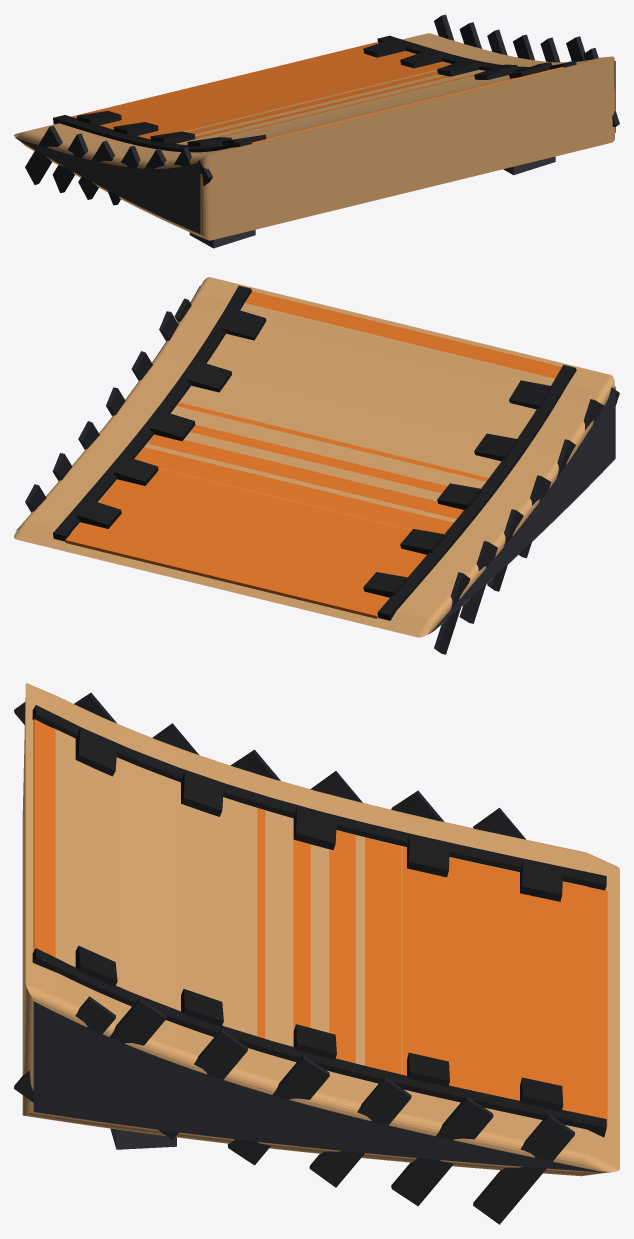
Rendered from corporate-office-jump-ramp-orange-smooth.glb.
3 renders of one model, top to bottom at view 1: azimuth 30°, elevation 25°; view 2: azimuth 150°, elevation 25°; view 3: azimuth 270°, elevation 25°, orthographic. The views are drawn at different scales.
Parts seen in each view (by area): view 1: RampBody, TrackSurface, LeftSidePanel, TopBumpers, LeftSafetyStripes, CorporateOfficeJumpRampOrangeSmooth, RightSafetyStripes, RubberFeet; view 2: RampBody, TrackSurface, TopBumpers, CorporateOfficeJumpRampOrangeSmooth, LeftSidePanel, LeftSafetyStripes, RightSafetyStripes; view 3: RampBody, TrackSurface, RightSidePanel, RightSafetyStripes, CorporateOfficeJumpRampOrangeSmooth, TopBumpers, LeftSafetyStripes, RubberFeet.
Part boxes in pixels (<box>): RampBody: <box>14,33,614,240</box>; TrackSurface: <box>71,42,563,145</box>; LeftSidePanel: <box>15,138,200,233</box>; TopBumpers: <box>77,38,552,146</box>; LeftSafetyStripes: <box>25,125,212,205</box>; CorporateOfficeJumpRampOrangeSmooth: <box>53,35,576,152</box>; RightSafetyStripes: <box>434,14,619,127</box>; RubberFeet: <box>189,156,555,248</box>; RampBody: <box>14,277,614,637</box>; TrackSurface: <box>65,291,561,618</box>; TopBumpers: <box>77,308,552,597</box>; CorporateOfficeJumpRampOrangeSmooth: <box>53,285,576,620</box>; LeftSidePanel: <box>430,386,615,633</box>; LeftSafetyStripes: <box>434,387,619,654</box>; RightSafetyStripes: <box>25,298,191,512</box>; RampBody: <box>22,683,619,1176</box>; TrackSurface: <box>33,719,607,1126</box>; RightSidePanel: <box>33,1001,603,1172</box>; RightSafetyStripes: <box>14,996,574,1224</box>; CorporateOfficeJumpRampOrangeSmooth: <box>32,705,606,1137</box>; TopBumpers: <box>75,727,563,1111</box>; LeftSafetyStripes: <box>14,692,525,839</box>; RubberFeet: <box>110,1128,176,1149</box>.
Size of the model in its own units: 7.47 by 2.68 by 6.15.
